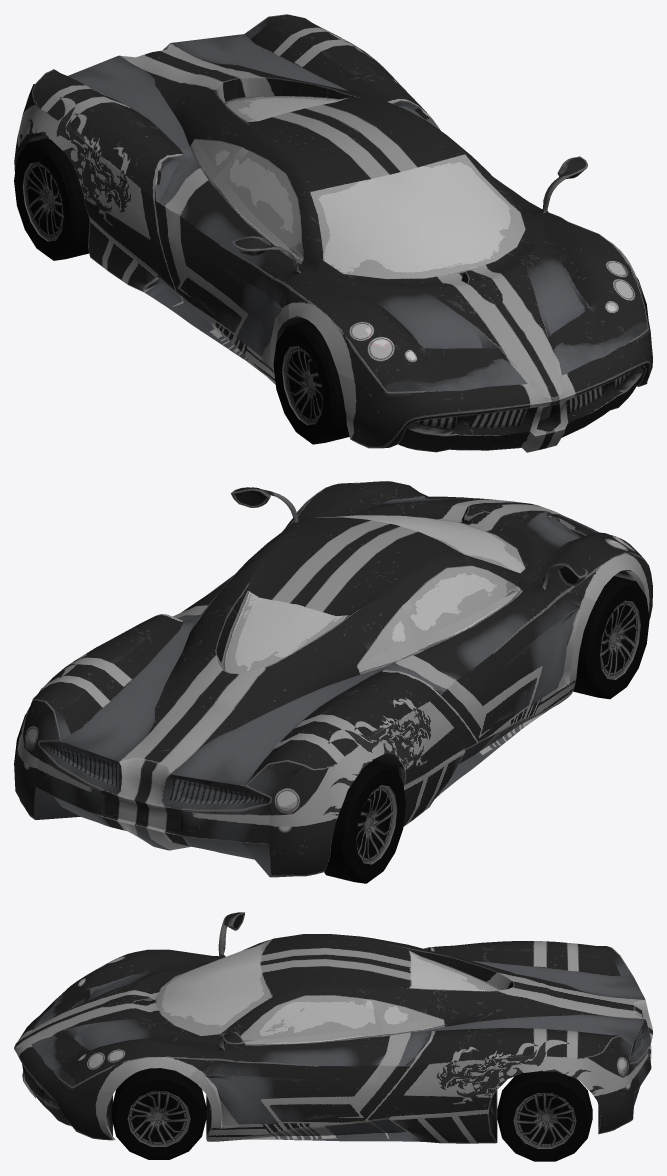
The model's file is Pagani.fbx.
3 views of the same model, one above another, from view 1: azimuth 30°, elevation 25°; view 2: azimuth 150°, elevation 25°; view 3: azimuth 270°, elevation 25° (orthographic). The views are drawn at different scales.
Parts seen in each view (by area): view 1: Pagani, Pagani_Teker; view 2: Pagani, Pagani_Teker; view 3: Pagani, Pagani_Teker.
Boxes of the visible parts, <box> form: Pagani: <box>14,14,652,452</box>; Pagani_Teker: <box>14,138,648,444</box>; Pagani: <box>14,481,652,877</box>; Pagani_Teker: <box>14,576,649,883</box>; Pagani: <box>14,912,652,1143</box>; Pagani_Teker: <box>111,1068,592,1161</box>.
Size of the model in its own units: 222 by 114 by 455.
2 materials, 2 textured.
